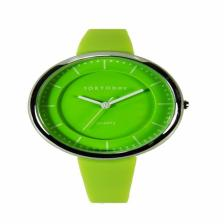green: (29, 29, 189, 203)
